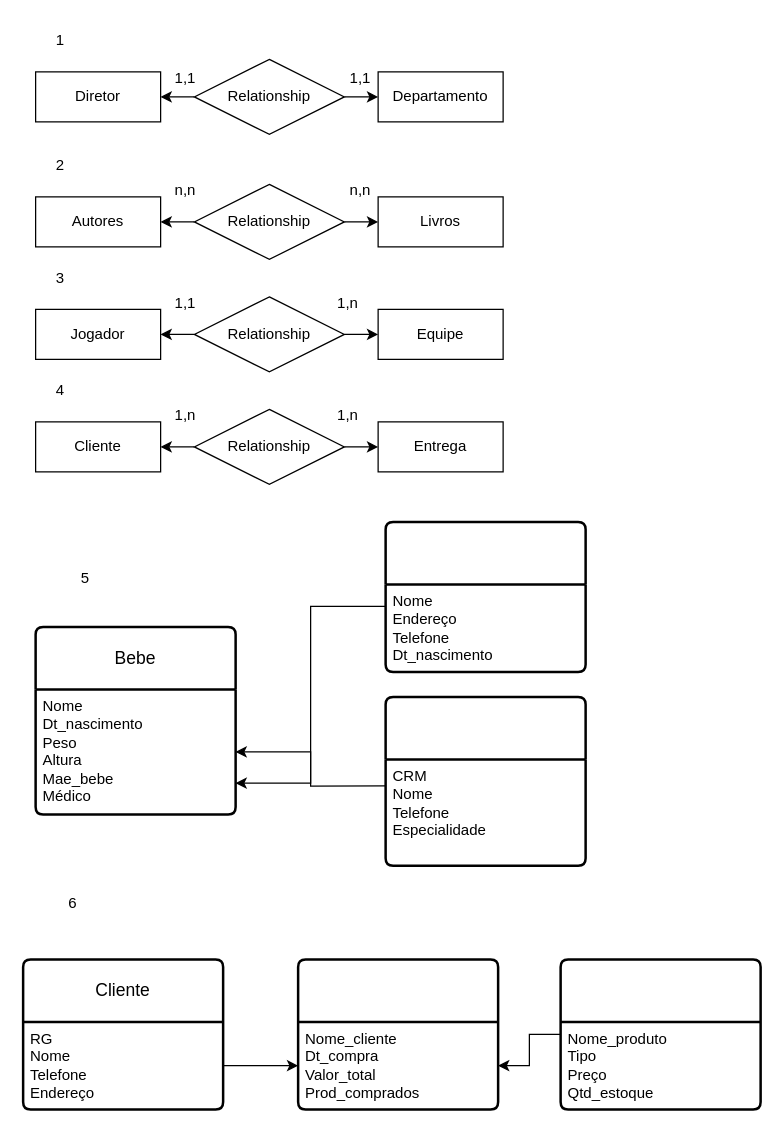
The diagram is 783 pixels wide and 1131 high, and some of its shapes have lost their labels. Here are the shapes that lost their labels. From the top down, the box of each, then its label:
(384, 520, 586, 672): Mae
(384, 695, 586, 866): Médico
(296, 958, 499, 1110): Compras
(559, 958, 761, 1110): Produtos
